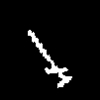double_crochet: (28, 30, 71, 86)
